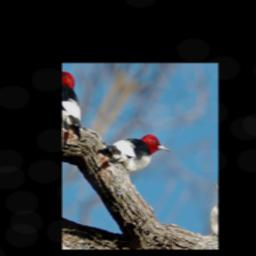Woodpecker: (98, 113, 173, 194)
